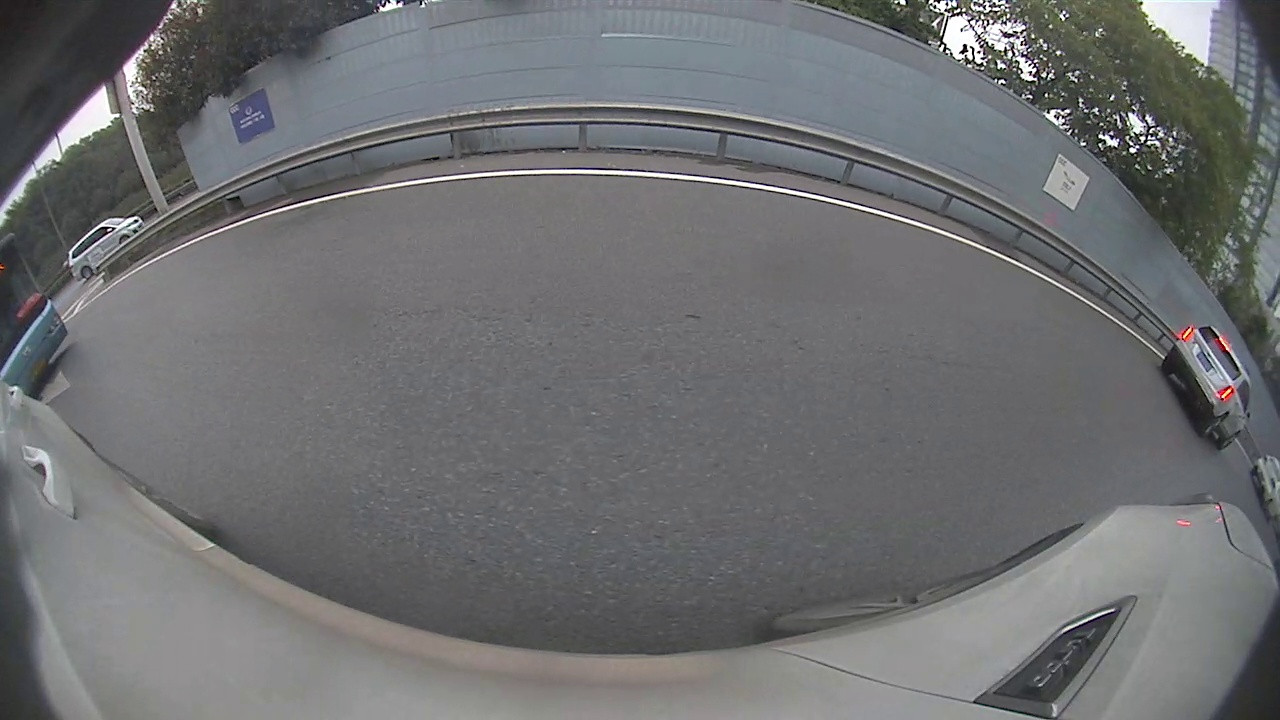bus: (1, 226, 73, 391)
car: (1164, 323, 1250, 447), (68, 218, 146, 279)
front: (1218, 432, 1241, 451), (118, 236, 130, 243)
rear: (1199, 414, 1225, 439), (80, 266, 92, 281)
